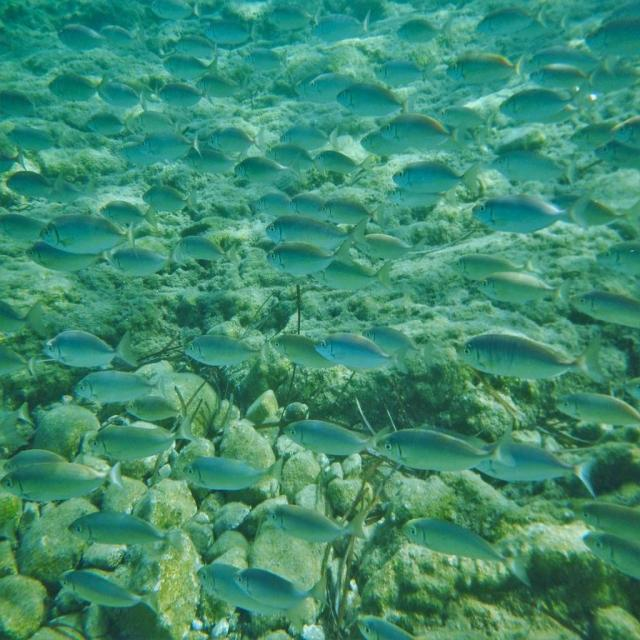Sokar Baligi: (401, 504, 545, 593), (454, 320, 612, 391), (64, 502, 190, 564), (260, 494, 370, 555)
